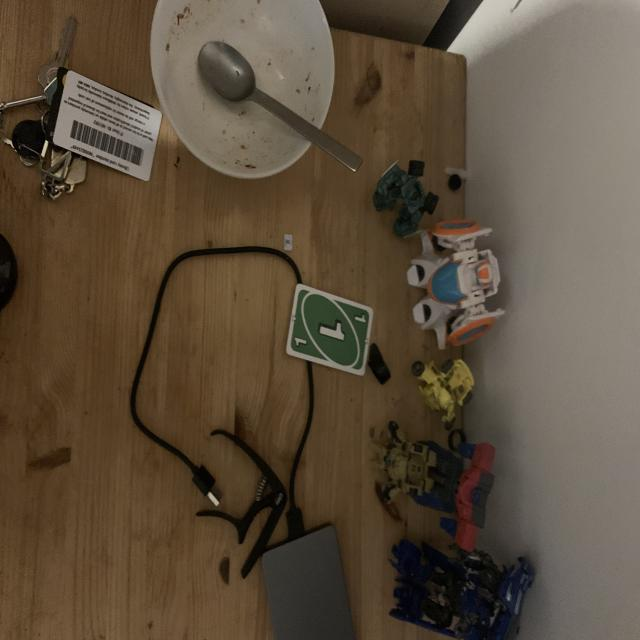lgreen-1: (350, 308, 368, 327)
